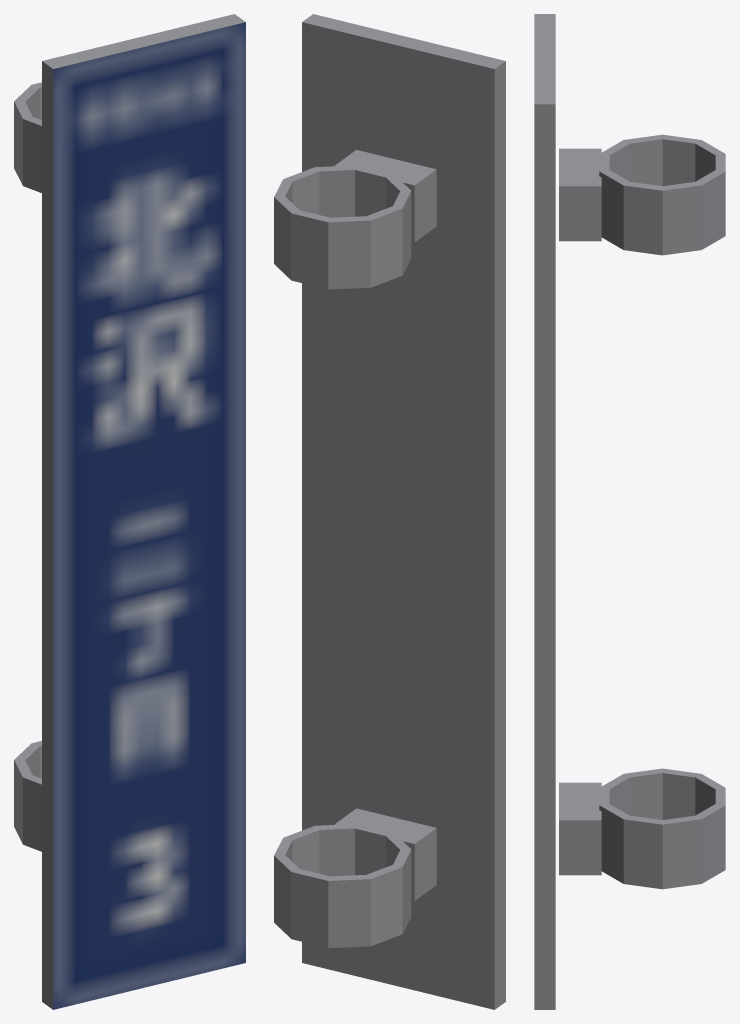
The model's file is SM_Street_AddressPlate_Post_01.fbx.
3 renders of one model, left to right at view 1: azimuth 30°, elevation 25°; view 2: azimuth 150°, elevation 25°; view 3: azimuth 270°, elevation 25°, orthographic. The views are drawn at different scales.
Visible parts, largest first — view 1: SM_Street_AddressPlate_Post_01; view 2: SM_Street_AddressPlate_Post_01; view 3: SM_Street_AddressPlate_Post_01.
Boxes of the visible parts, x1=… form: SM_Street_AddressPlate_Post_01: x1=14, y1=14, x2=245, y2=1009; SM_Street_AddressPlate_Post_01: x1=274, y1=14, x2=505, y2=1009; SM_Street_AddressPlate_Post_01: x1=534, y1=14, x2=725, y2=1009.
Size of the model in its own units: 0.12 by 0.56 by 0.1074.
Materials: 1 (1 with a texture image).
